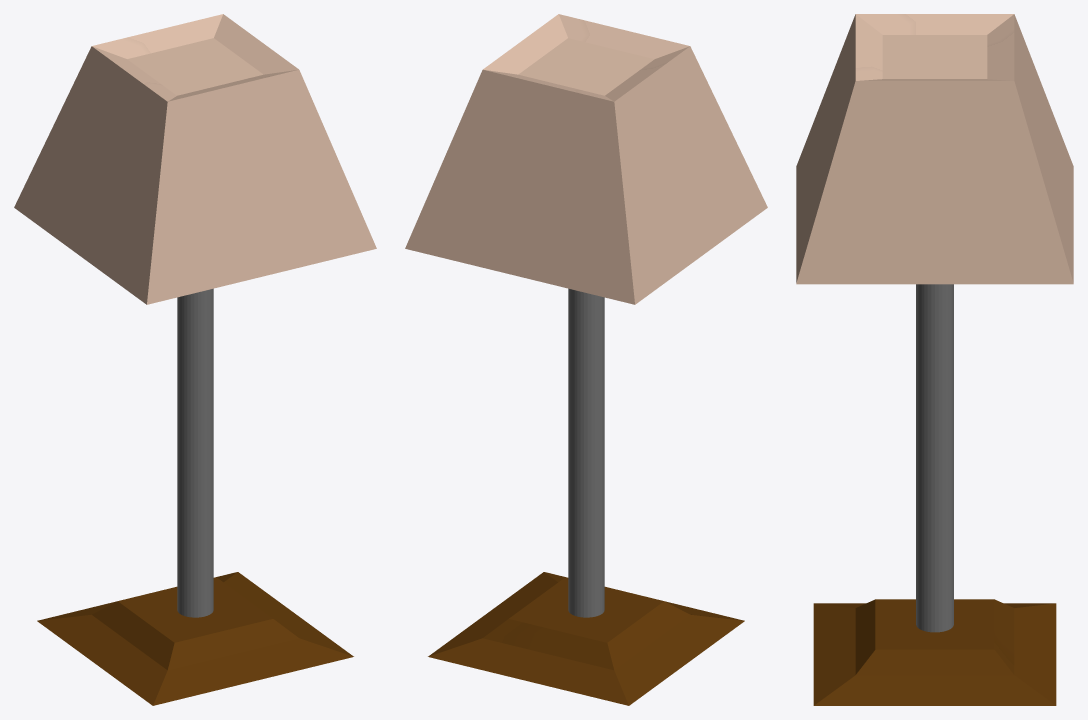
The model's file is lamp.fbx.
The picture shows the model from 3 angles, left to right: view 1: azimuth 30°, elevation 25°; view 2: azimuth 150°, elevation 25°; view 3: azimuth 270°, elevation 25°; orthographic projection. The views are drawn at different scales.
Parts seen in each view (by area): view 1: lamp; view 2: lamp; view 3: lamp.
Boxes of the visible parts, left/top/right/bottom form: lamp: left=14, top=14, right=376, bottom=705; lamp: left=405, top=14, right=767, bottom=705; lamp: left=796, top=14, right=1073, bottom=705.
Bounding box in the file's own units: 46.06 × 111 × 46.06.
